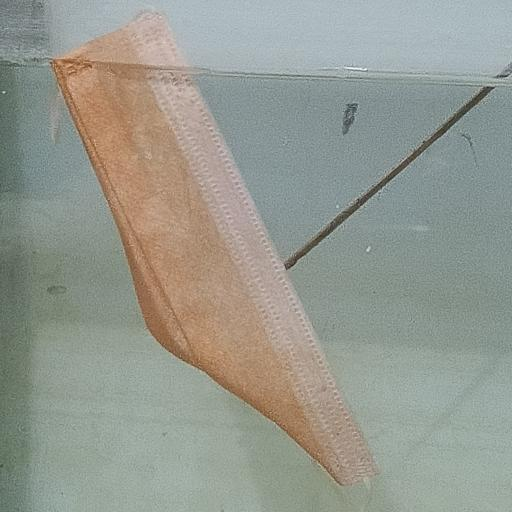mask: (55, 9, 375, 487)
